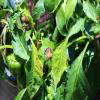Bell_pepper leaf: (10, 18, 30, 60)
